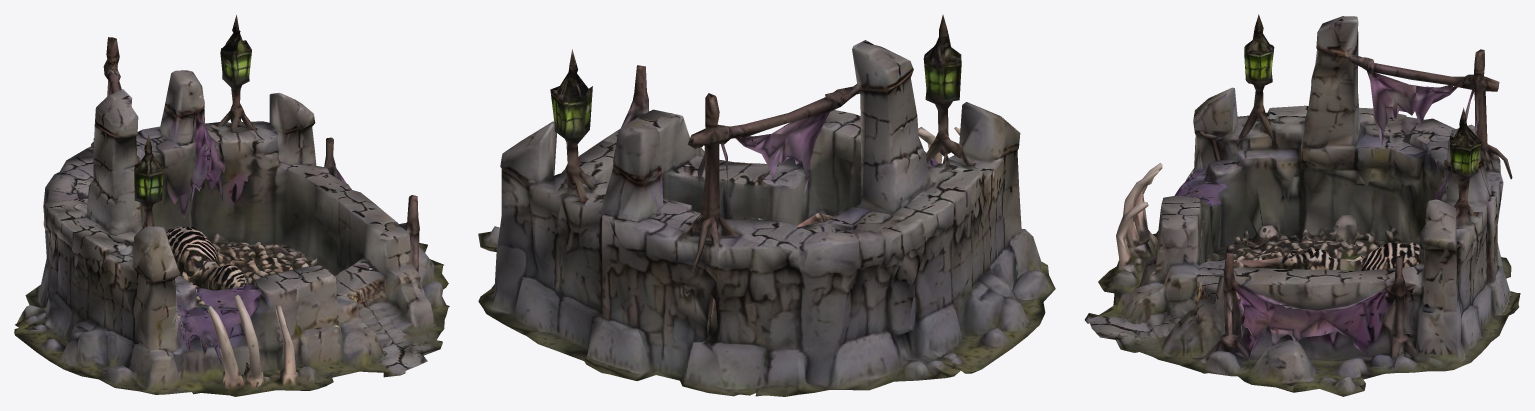
3 views of the same model, side by side, from view 1: azimuth 30°, elevation 25°; view 2: azimuth 150°, elevation 25°; view 3: azimuth 270°, elevation 25° (orthographic). The views are drawn at different scales.
Parts seen in each view (by area): view 1: tripo_node_685a3b92-1e08-4636-be34-18b176e31b8c; view 2: tripo_node_685a3b92-1e08-4636-be34-18b176e31b8c; view 3: tripo_node_685a3b92-1e08-4636-be34-18b176e31b8c.
Part boxes in pixels (x1=…): tripo_node_685a3b92-1e08-4636-be34-18b176e31b8c: x1=14, y1=15, x2=449, y2=396; tripo_node_685a3b92-1e08-4636-be34-18b176e31b8c: x1=478, y1=15, x2=1055, y2=396; tripo_node_685a3b92-1e08-4636-be34-18b176e31b8c: x1=1084, y1=14, x2=1520, y2=396.
Size of the model in its own units: 3.6 by 1.96 by 3.3.
1 material, 1 textured.
